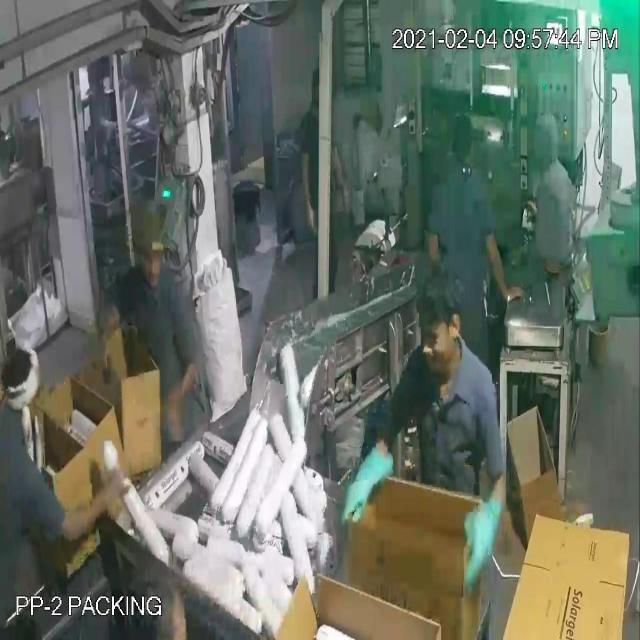No_Gloves: (32, 87, 502, 520)
